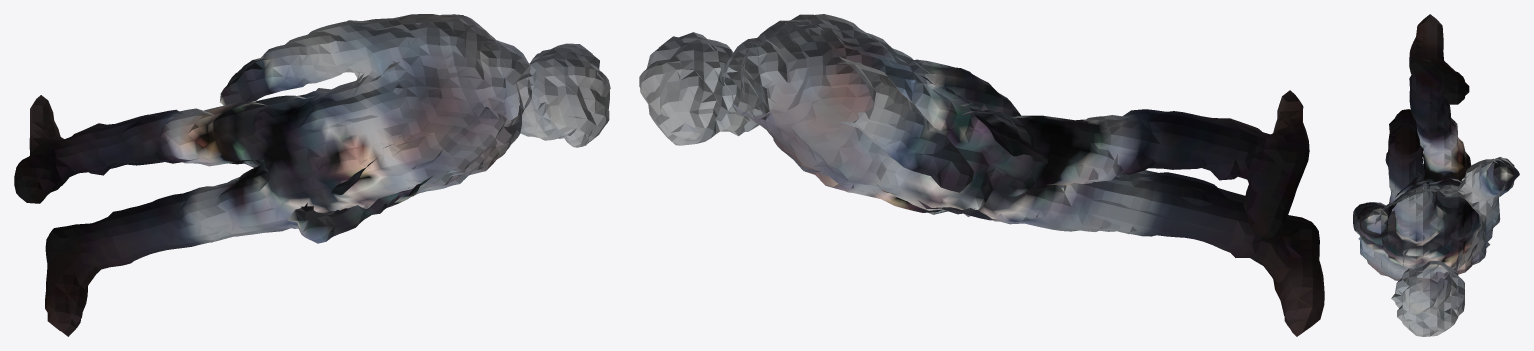
3 views of the same model, side by side, from view 1: azimuth 30°, elevation 25°; view 2: azimuth 150°, elevation 25°; view 3: azimuth 270°, elevation 25° (orthographic). The views are drawn at different scales.
Visible parts, largest first — view 1: world; view 2: world; view 3: world.
Boxes of the visible parts, <box> form: world: <box>14,14,610,336</box>; world: <box>639,14,1324,336</box>; world: <box>1353,14,1519,336</box>.
Bounding box in the file's own units: 0.9558 × 0.366 × 0.3257.
